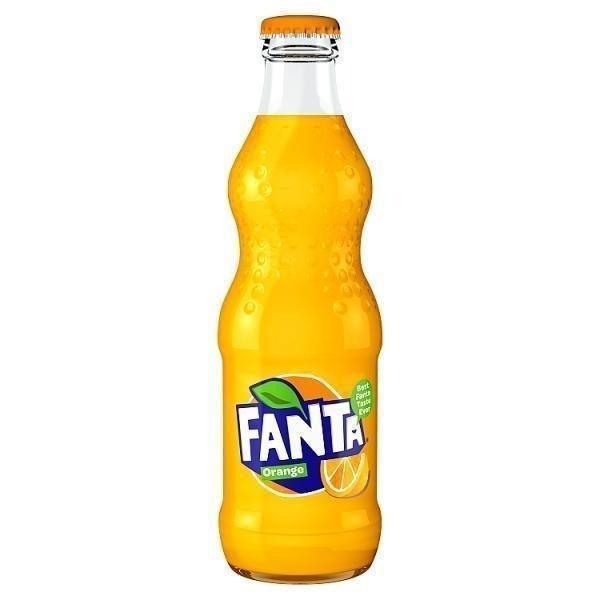bottle-glass: (211, 9, 387, 591)
